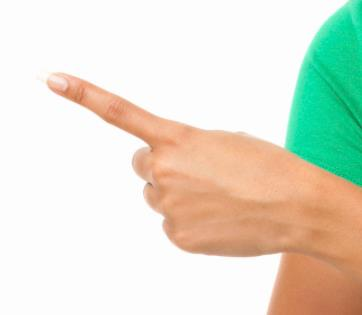up: (42, 67, 290, 262)
